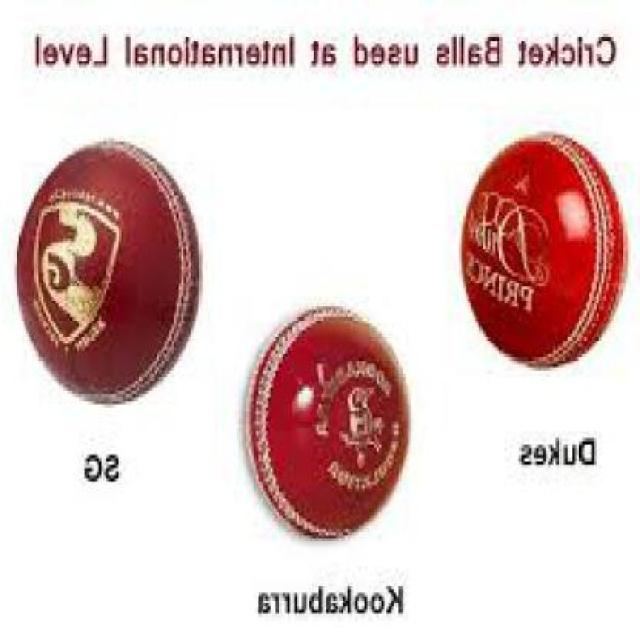ball: (225, 287, 439, 561)
